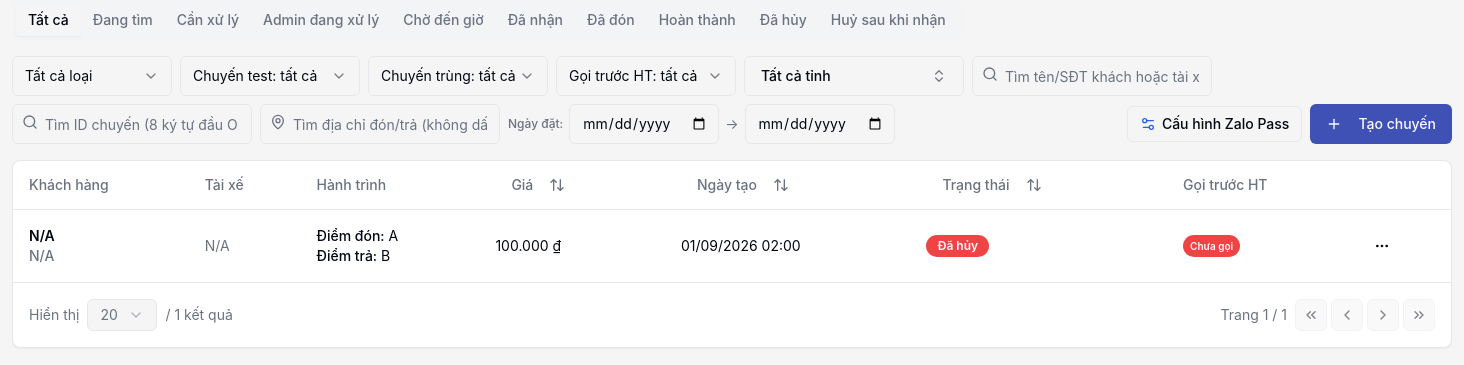
BookingsTable — tab "Huỷ sau khi nhận" › vẫn hiện 3 cột huỷ như tab "Đã hủy" (gate cứng theo tên tab là chỗ dễ sót)
Click the tab "Huỷ sau khi nhận" at (888, 20), box [819, 4, 958, 36]
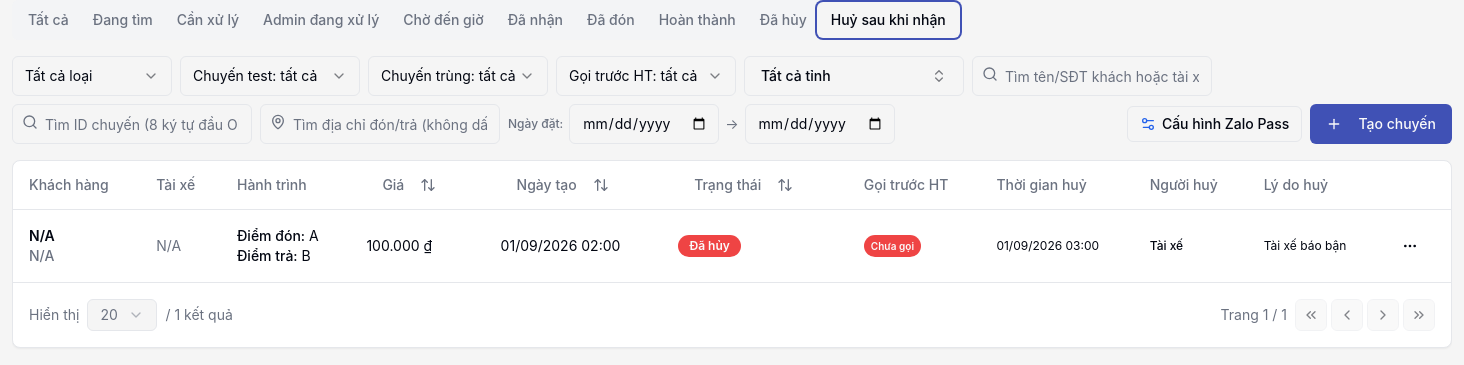
Result: the column heading "Thời gian huỷ" is shown at [980, 161, 1134, 209]
Result: the column heading "Người huỷ" is shown at [1134, 161, 1248, 209]
Result: the column heading "Lý do huỷ" is shown at [1248, 161, 1378, 209]
